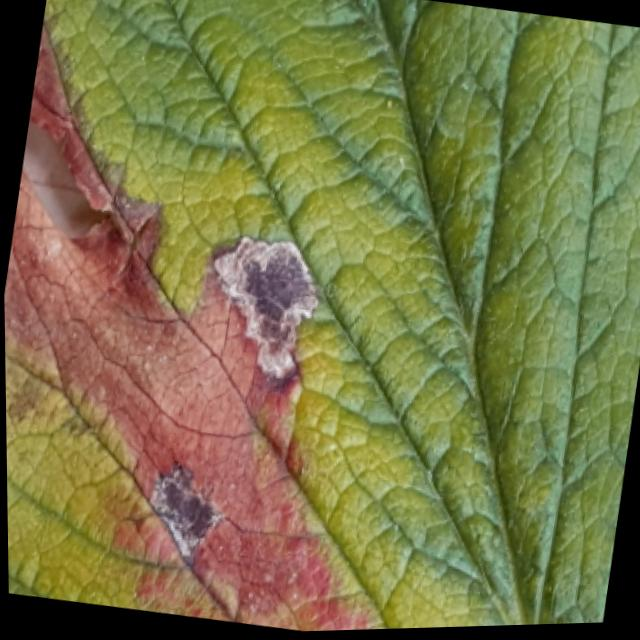Angular Leafspot: (3, 0, 387, 633)
